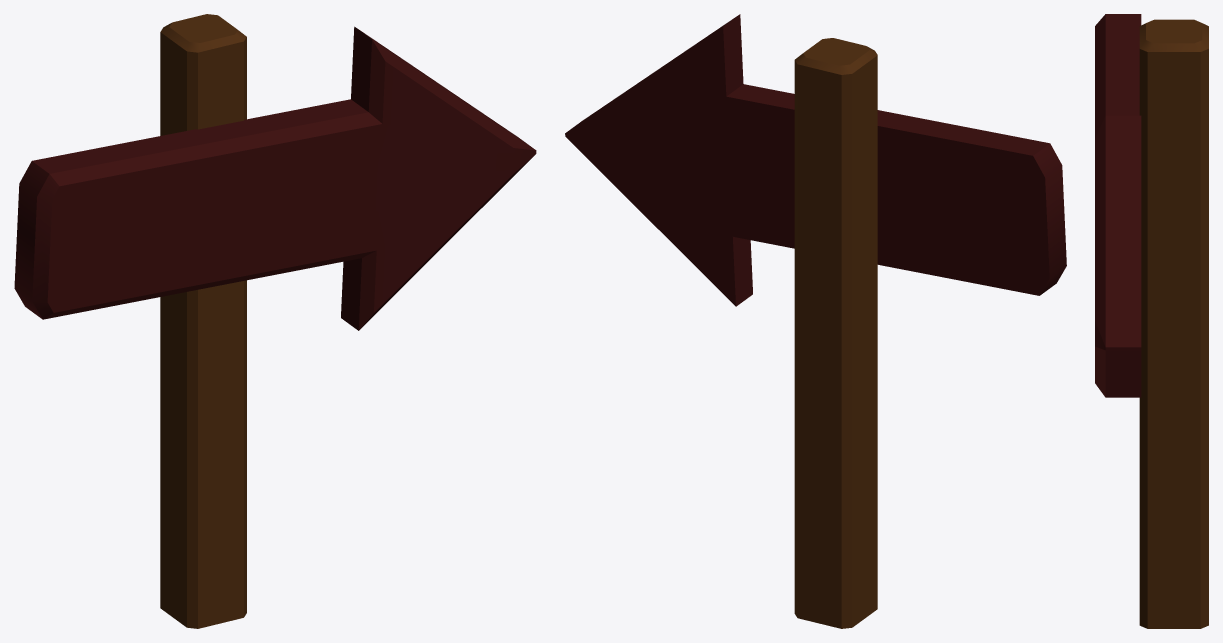
Rendered from Arrow_Side.fbx.
3 renders of one model, left to right at view 1: azimuth 30°, elevation 25°; view 2: azimuth 150°, elevation 25°; view 3: azimuth 270°, elevation 25°, orthographic. The views are drawn at different scales.
Visible parts, largest first — view 1: Arrow_Side; view 2: Arrow_Side; view 3: Arrow_Side.
Part boxes in pixels (left/top/right/bottom): Arrow_Side: left=14, top=14, right=536, bottom=628; Arrow_Side: left=565, top=14, right=1066, bottom=628; Arrow_Side: left=1095, top=14, right=1208, bottom=628.
Bounding box in the file's own units: 186 × 205 × 36.32.
